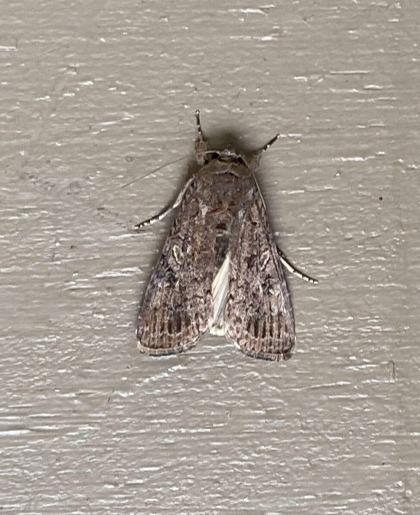army worm adult: (100, 92, 327, 376)
